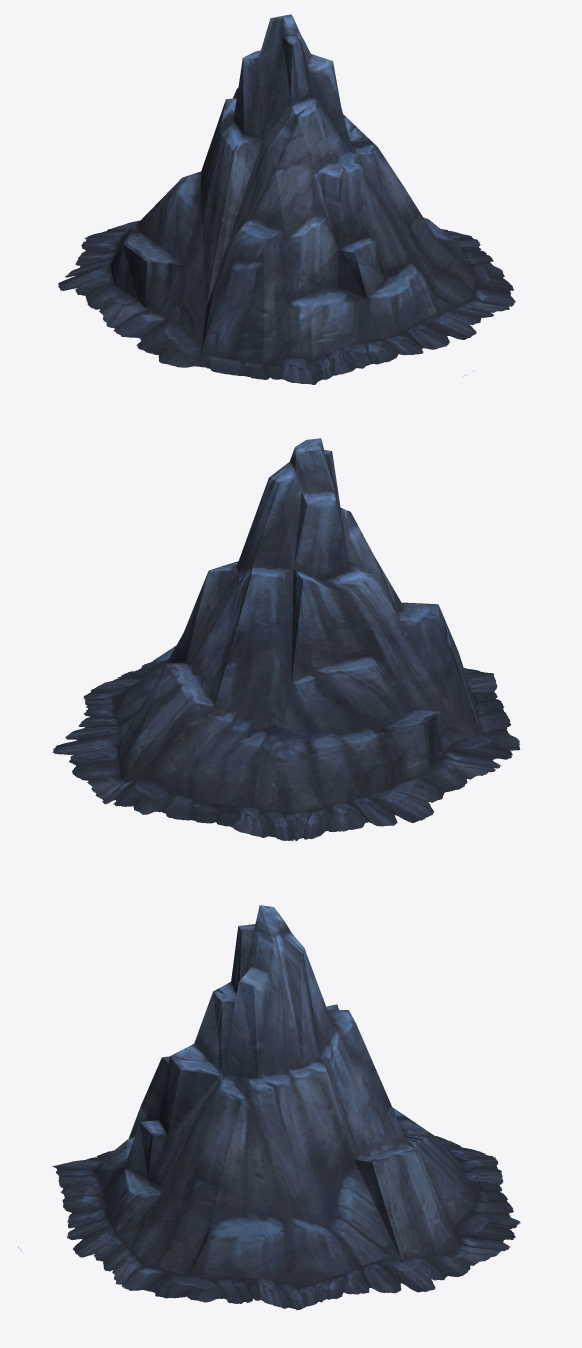
The model's file is mine_free_footer_01.fbx.
3 views of the same model, one above another, from view 1: azimuth 30°, elevation 25°; view 2: azimuth 150°, elevation 25°; view 3: azimuth 270°, elevation 25° (orthographic). The views are drawn at different scales.
Parts seen in each view (by area): view 1: mine_tileset/rock01_mat; view 2: mine_tileset/rock01_mat; view 3: mine_tileset/rock01_mat.
Part boxes in pixels (bbox=[...]): mine_tileset/rock01_mat: bbox=[58, 14, 515, 384]; mine_tileset/rock01_mat: bbox=[52, 438, 520, 841]; mine_tileset/rock01_mat: bbox=[18, 905, 520, 1310].
Size of the model in its own units: 7.84 by 4.88 by 7.94.
